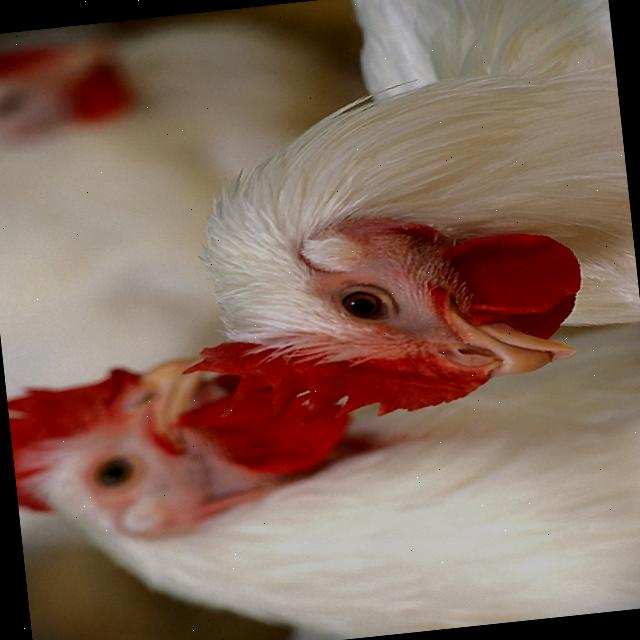Healthy: (149, 0, 640, 436)
